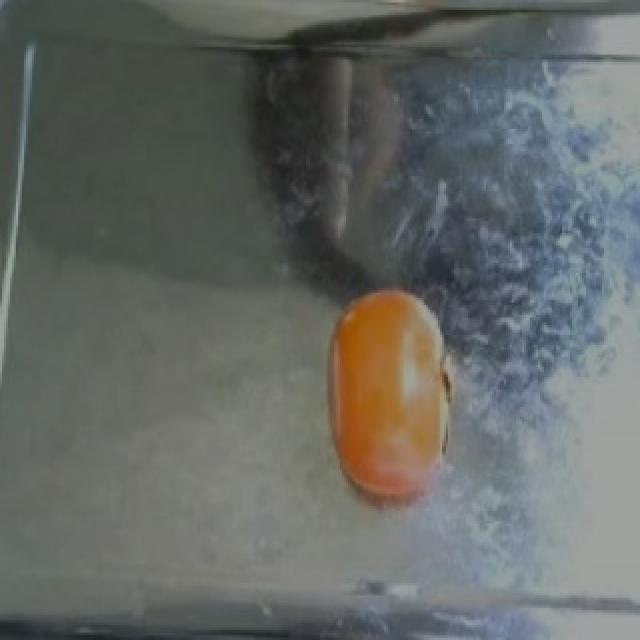Fruit: (312, 276, 466, 518)
